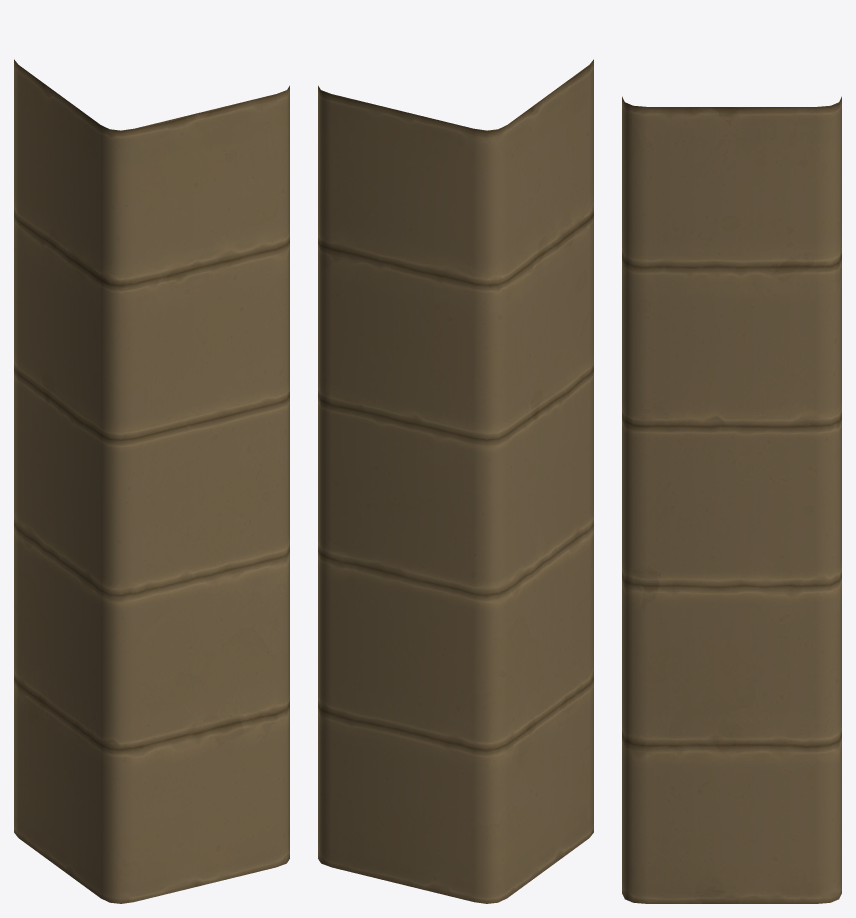
Rendered from SM_brick_building_08.glb.
3 views of the same model, side by side, from view 1: azimuth 30°, elevation 25°; view 2: azimuth 150°, elevation 25°; view 3: azimuth 270°, elevation 25° (orthographic). The views are drawn at different scales.
Parts seen in each view (by area): view 1: SM_brick_building_08; view 2: SM_brick_building_08; view 3: SM_brick_building_08.
Part boxes in pixels (box(x1,y1,x2,y2)): SM_brick_building_08: box(14, 59, 289, 903); SM_brick_building_08: box(318, 59, 593, 903); SM_brick_building_08: box(622, 96, 841, 903).
Size of the model in its own units: 0.8 by 3.2 by 0.8.
1 material, 1 textured.
